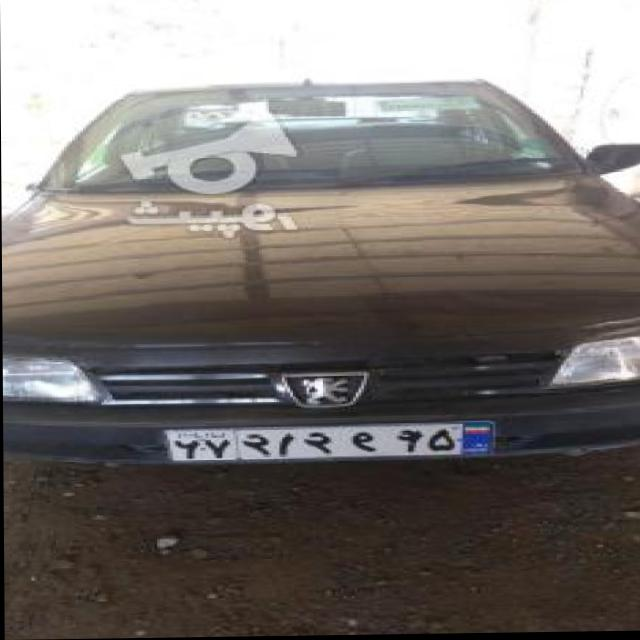licence: (164, 417, 497, 463)
